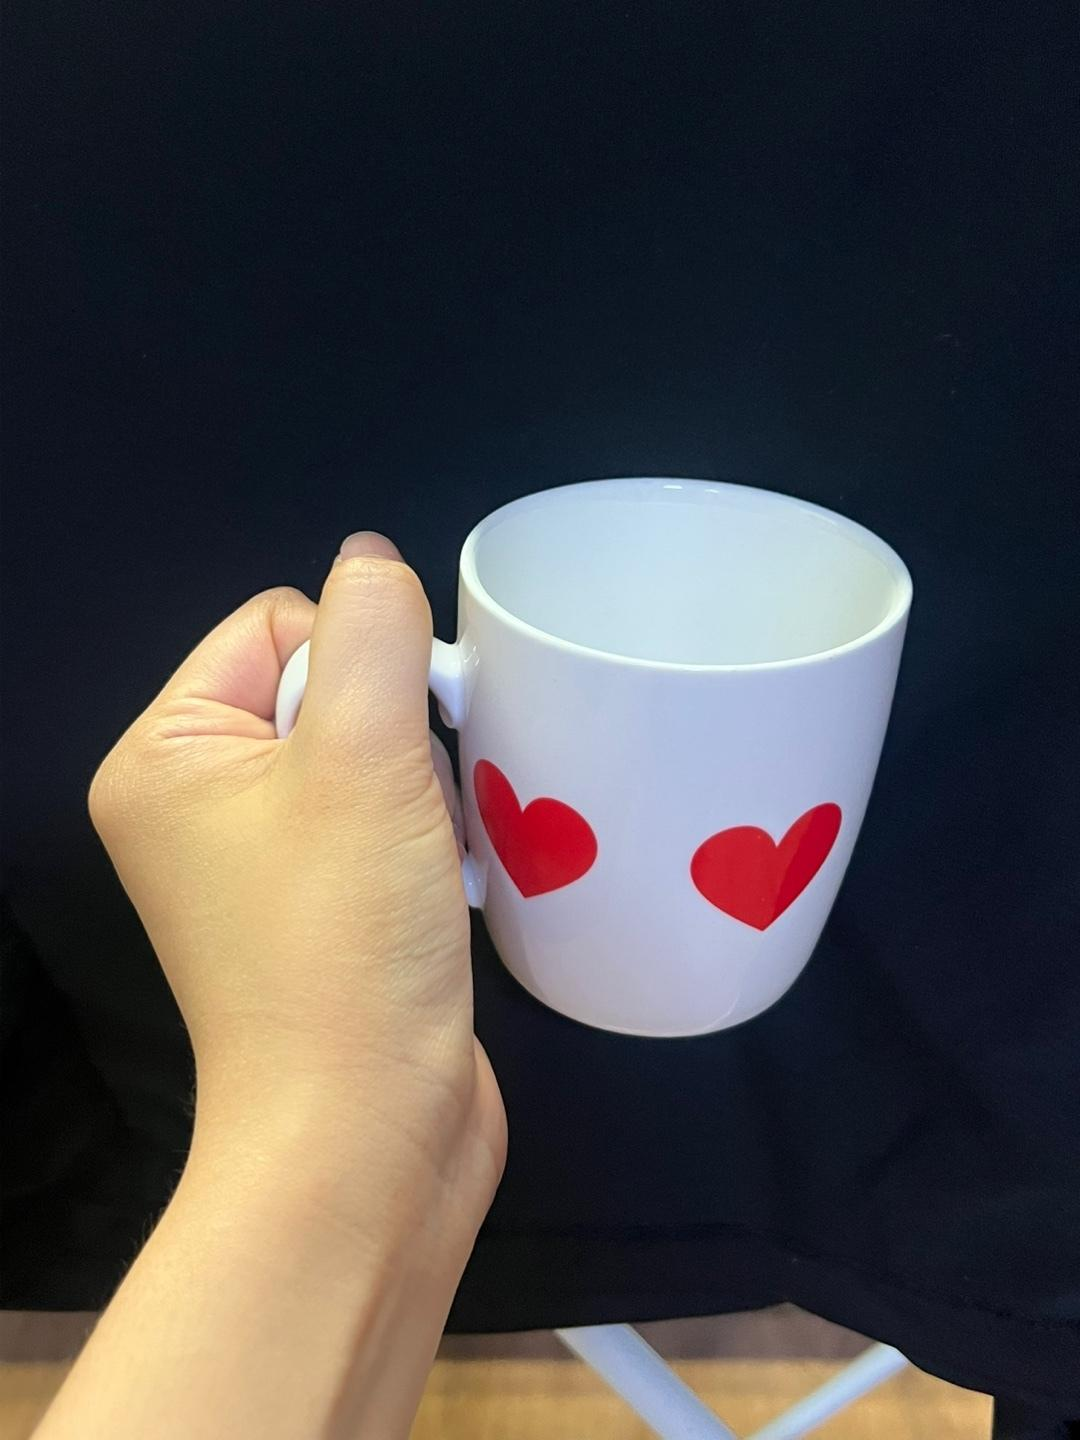cup: (84, 472, 920, 1212)
